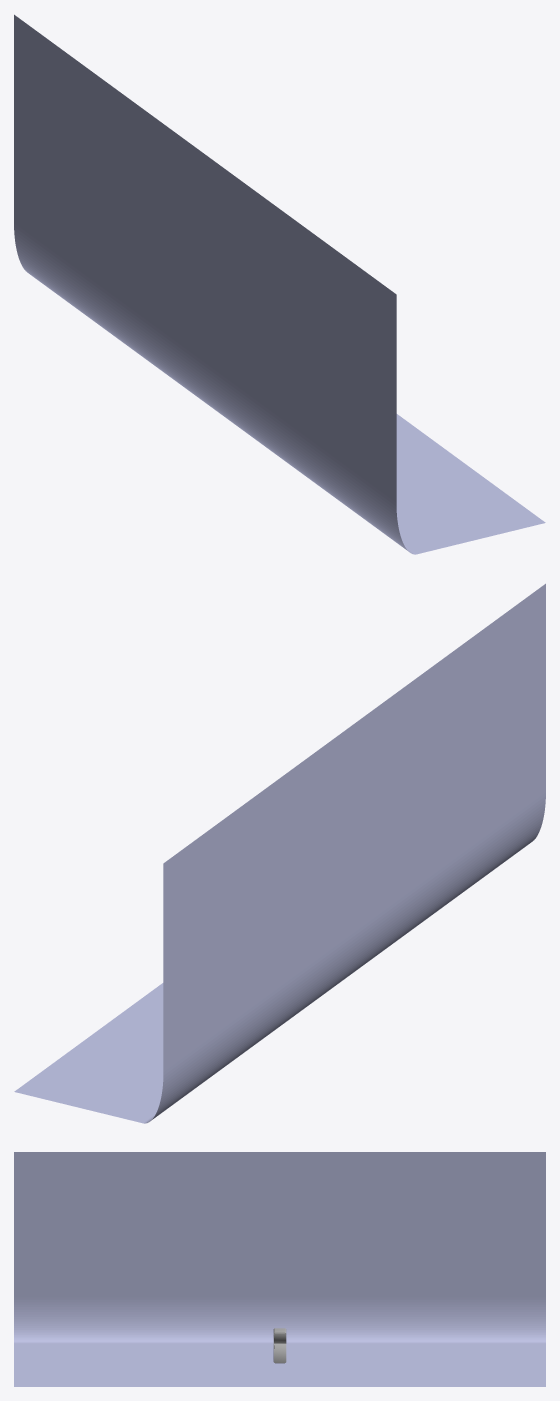
File: fundal2.glb
3 views of the same model, one above another, from view 1: azimuth 30°, elevation 25°; view 2: azimuth 150°, elevation 25°; view 3: azimuth 270°, elevation 25° (orthographic). The views are drawn at different scales.
Visible parts, largest first — view 1: Fundal; view 2: Fundal; view 3: Fundal, Cube.
Part boxes in pixels (<box>): Fundal: <box>14,14,545,554</box>; Fundal: <box>14,583,545,1123</box>; Fundal: <box>14,1152,545,1386</box>; Cube: <box>273,1328,286,1363</box>.
Bounding box in the file's own units: 13.24 × 22.43 × 58.69.
